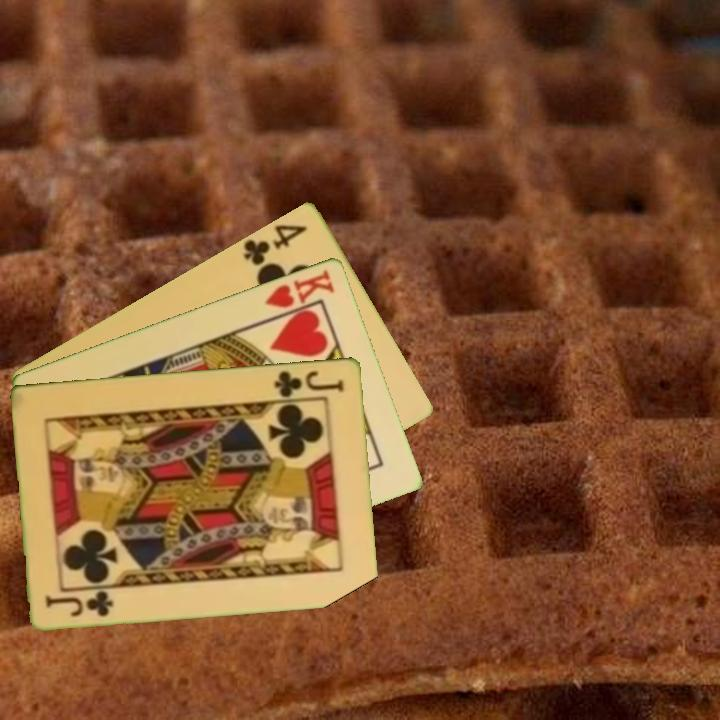4c: (240, 220, 311, 269)
Jc: (271, 367, 347, 400), (41, 587, 117, 619)
Kh: (261, 265, 338, 322)
